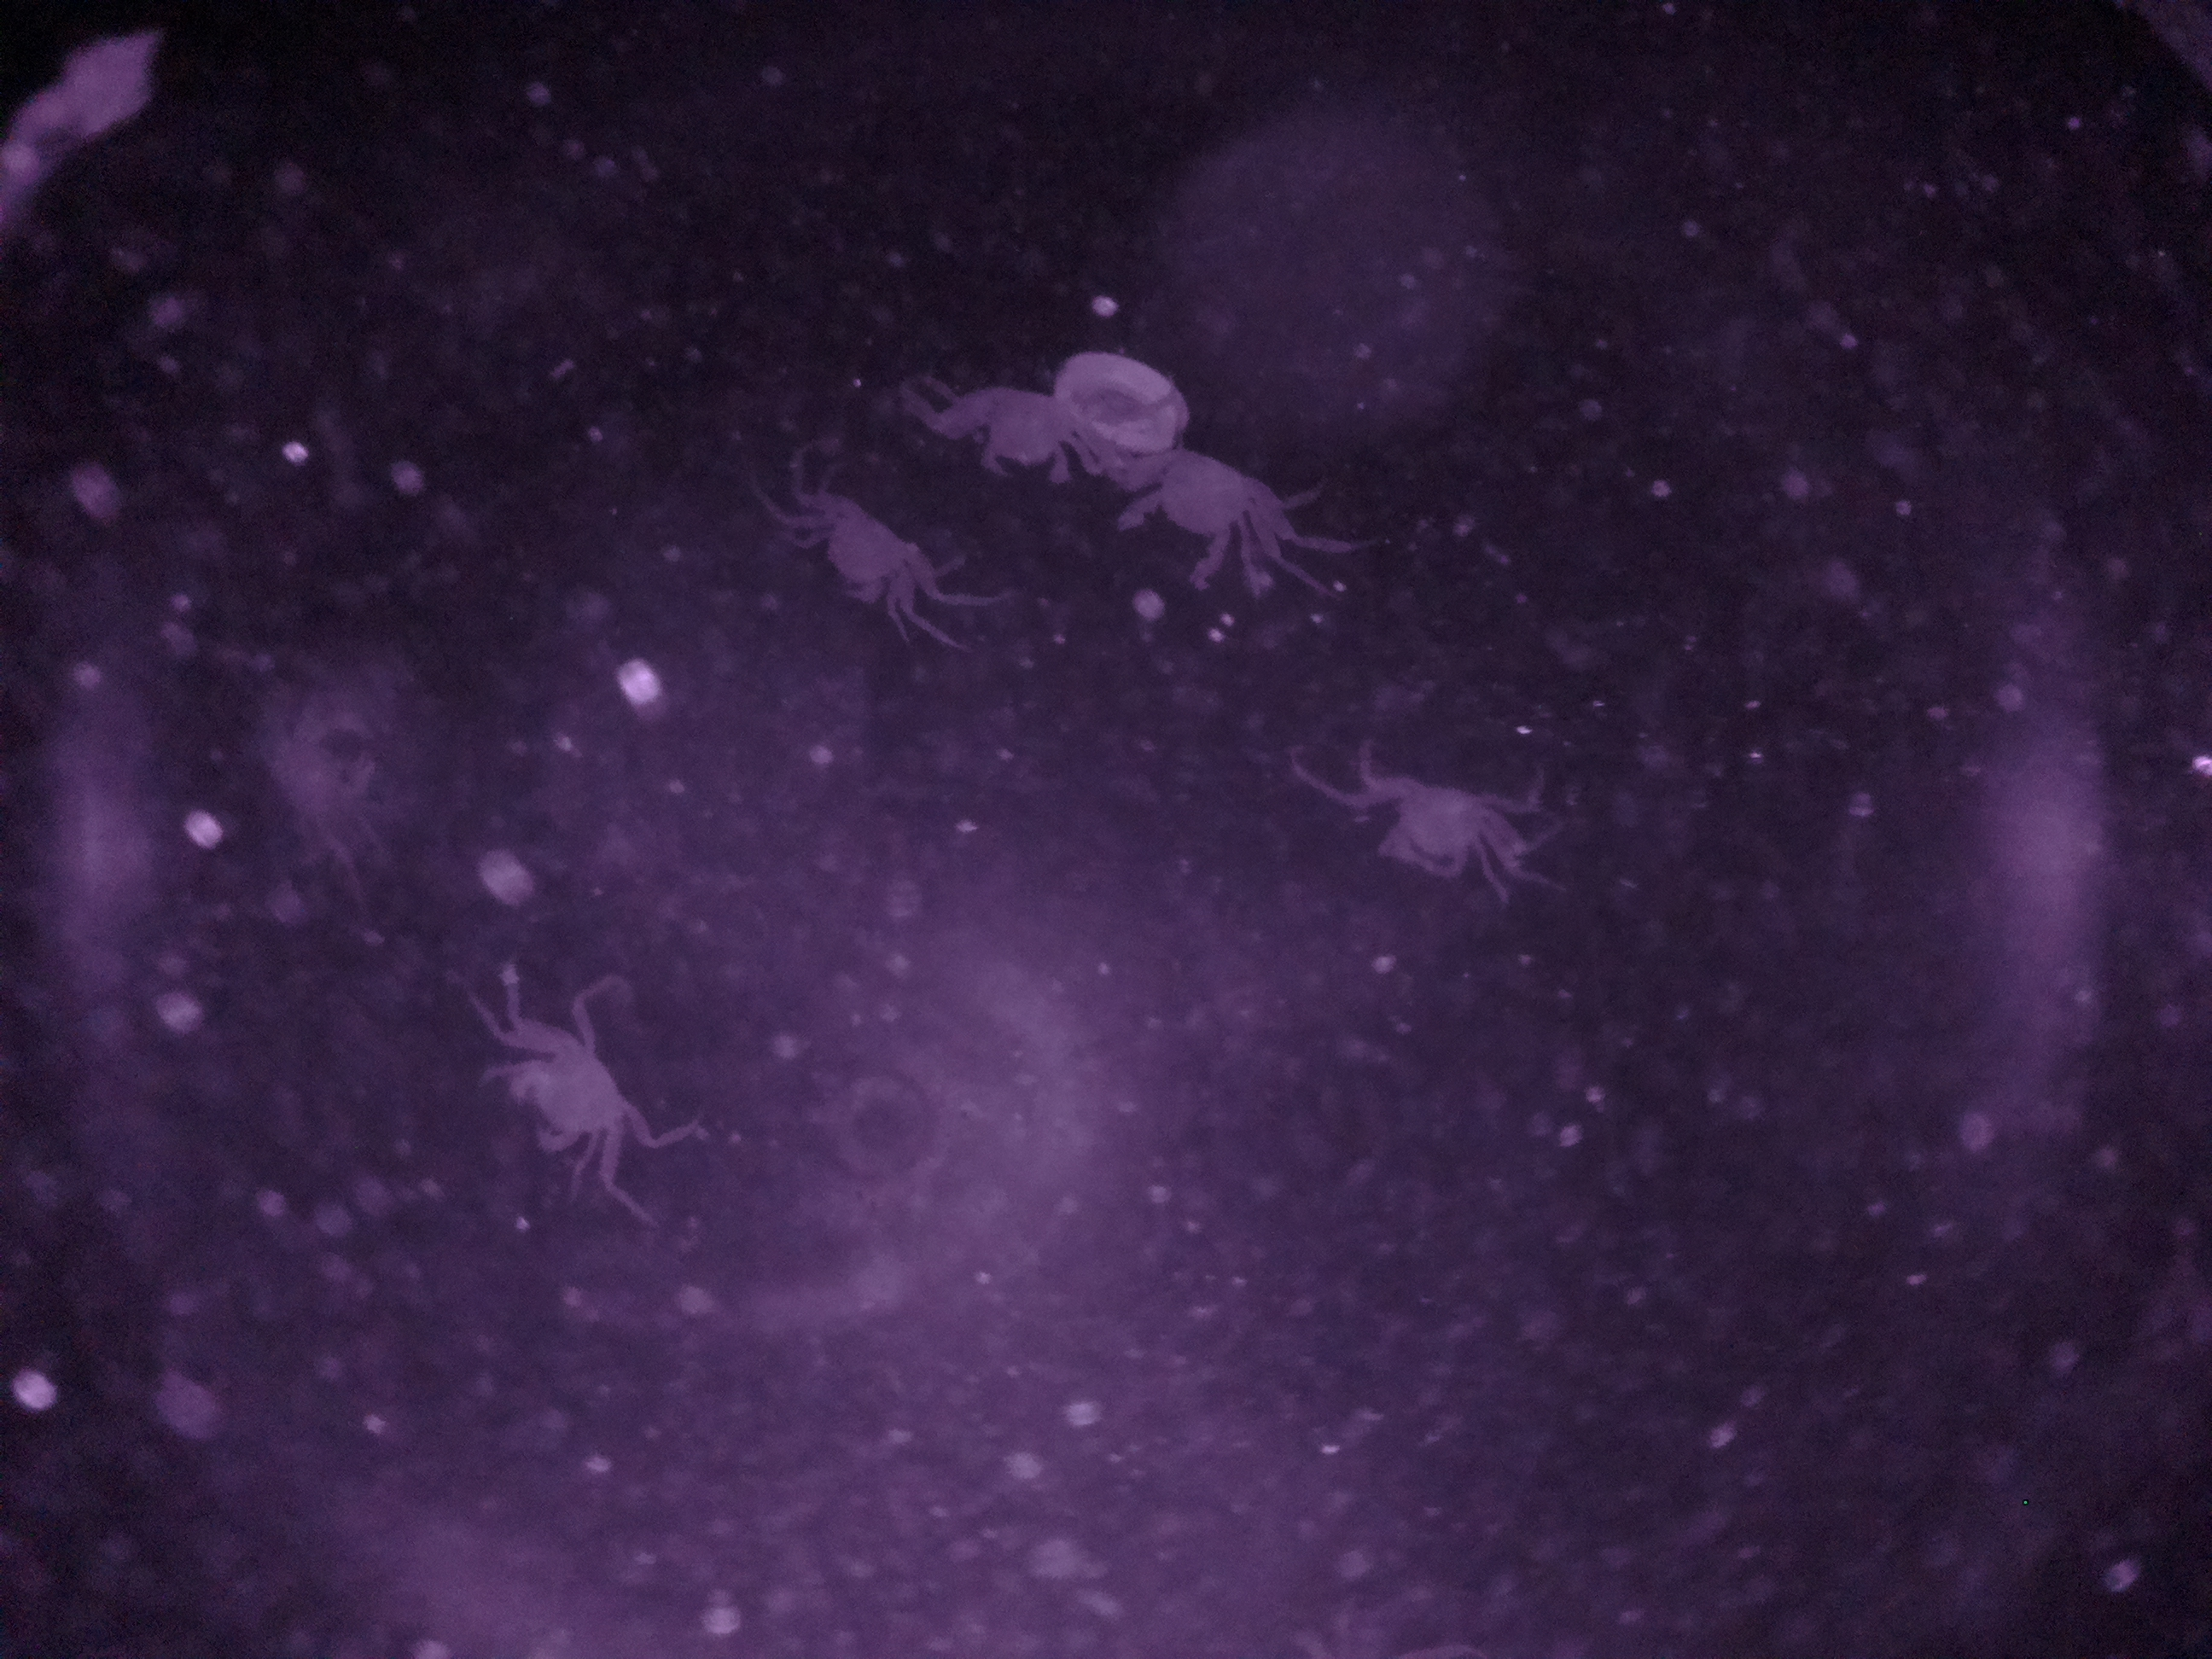Crab: (486, 988, 686, 1192), (772, 460, 977, 659), (1332, 730, 1529, 892)
